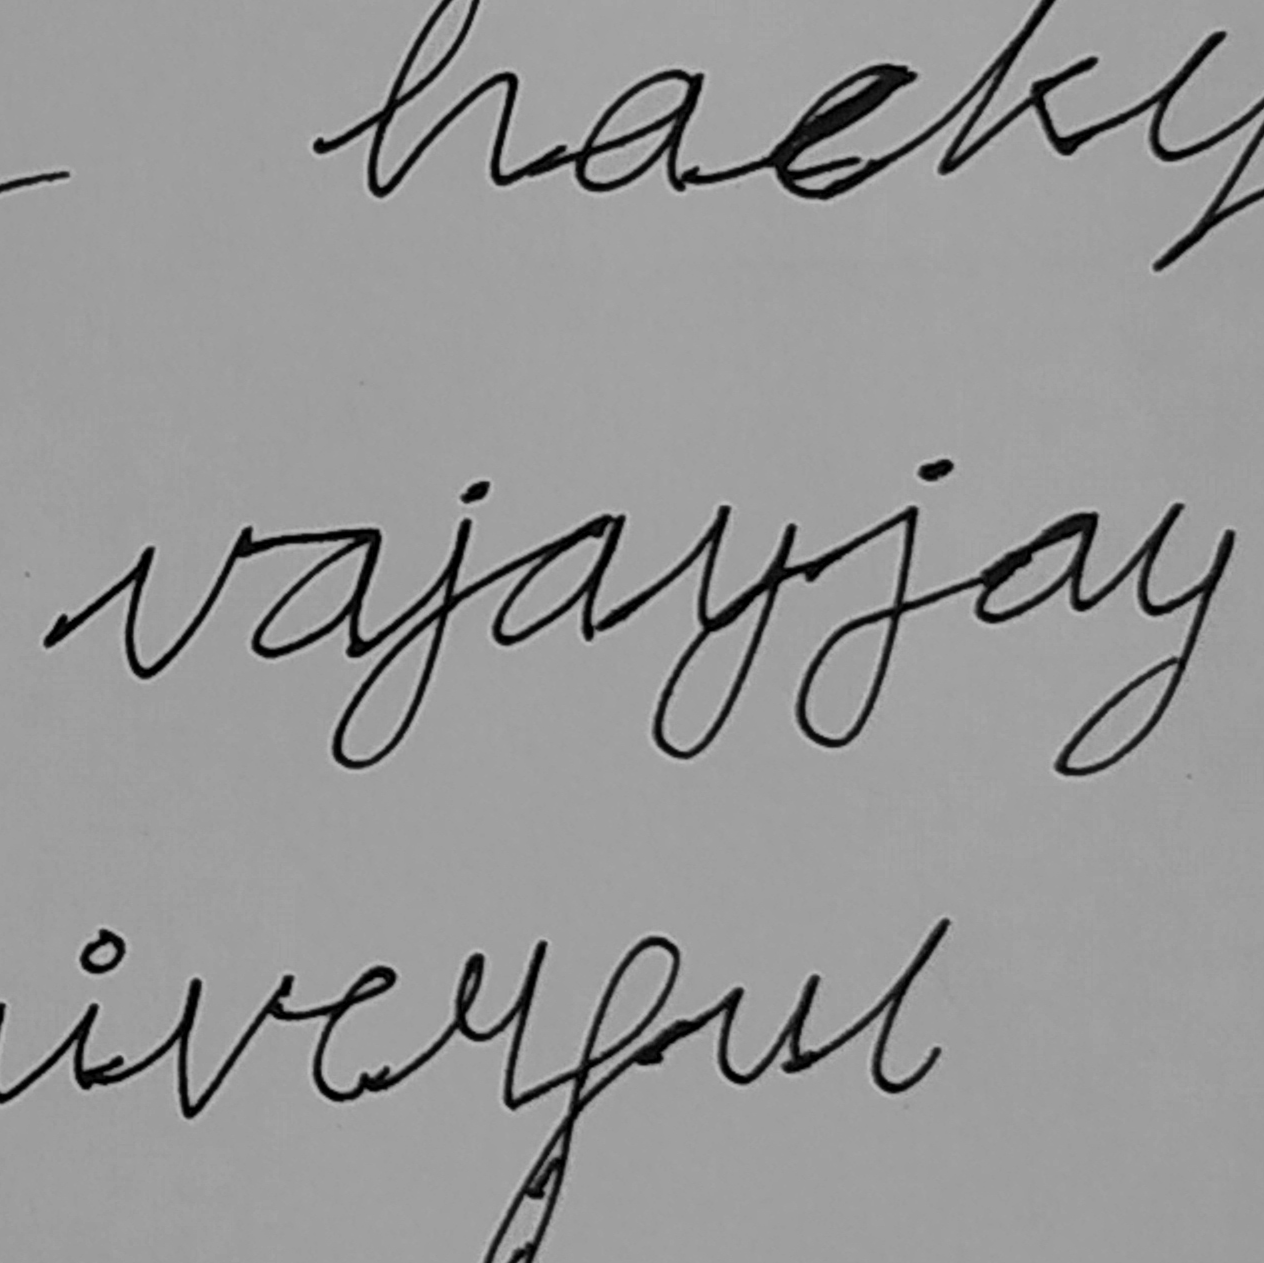a: (487, 509, 630, 655), (244, 525, 387, 666), (970, 504, 1104, 630)
j: (790, 452, 956, 752), (326, 477, 494, 771)
v: (113, 520, 256, 684)
y: (1047, 496, 1237, 780), (643, 497, 800, 768)
